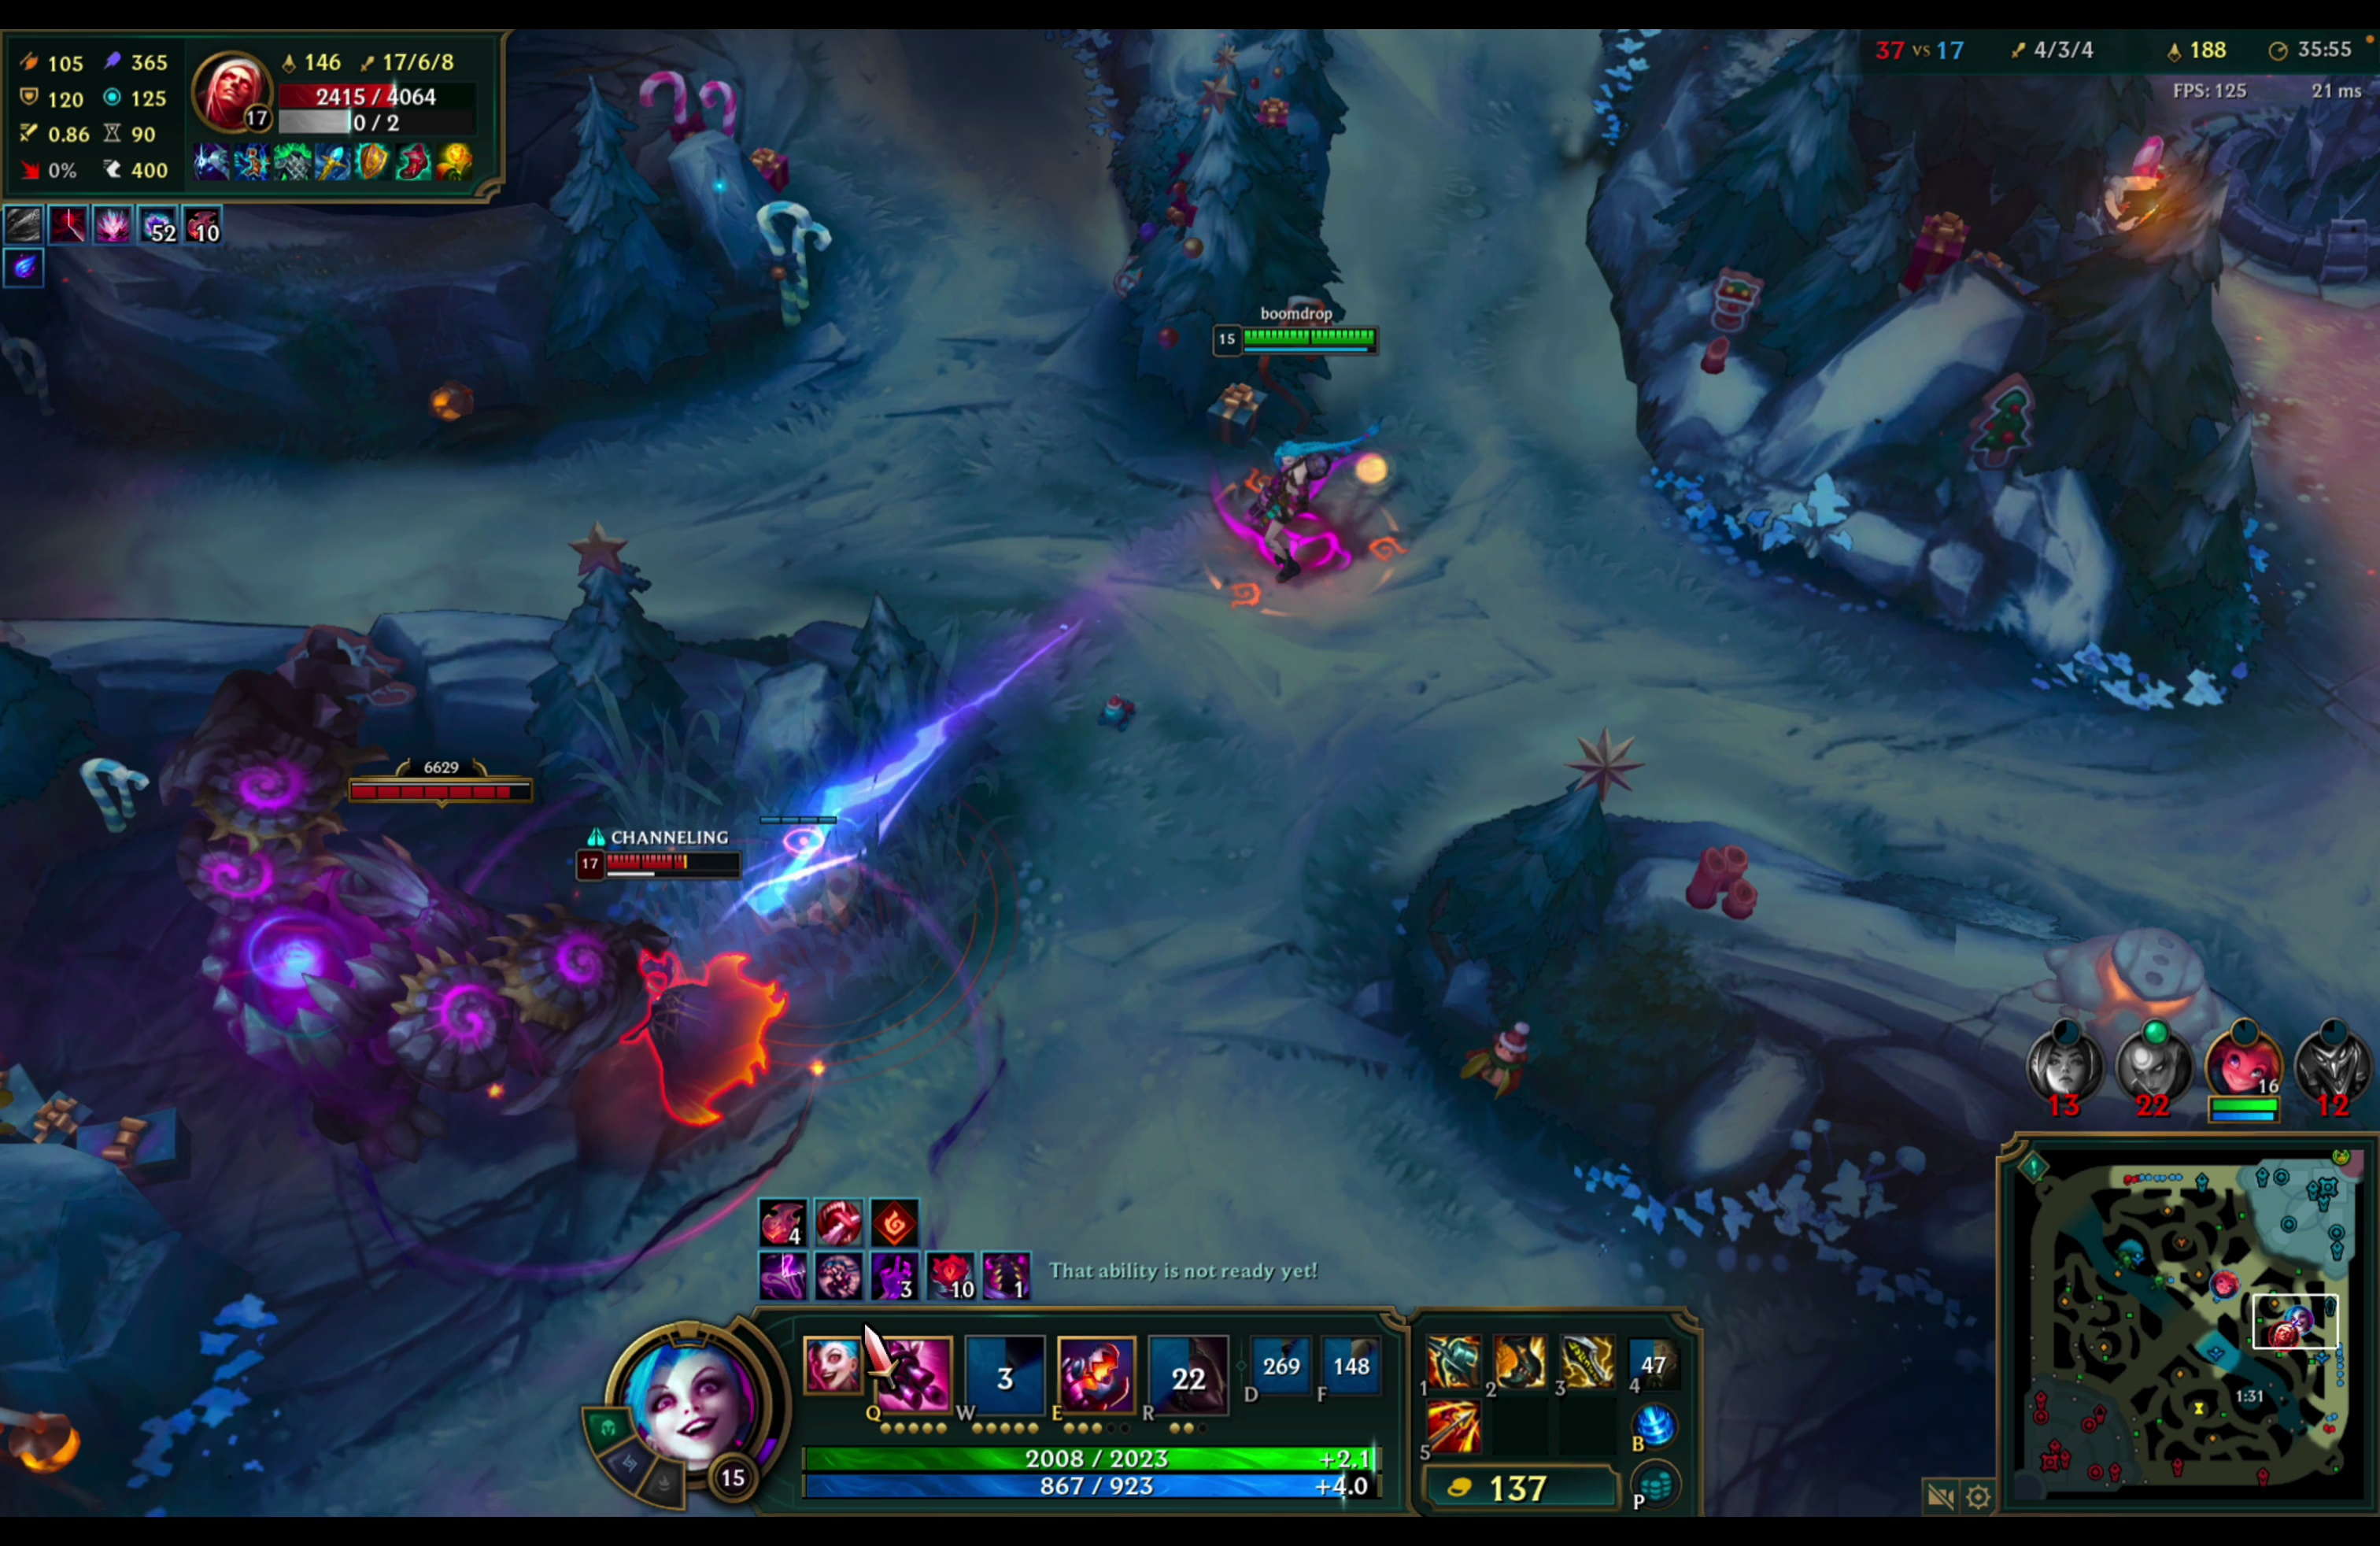JINX_W_PROJECTILE: (725, 298, 1435, 960)
